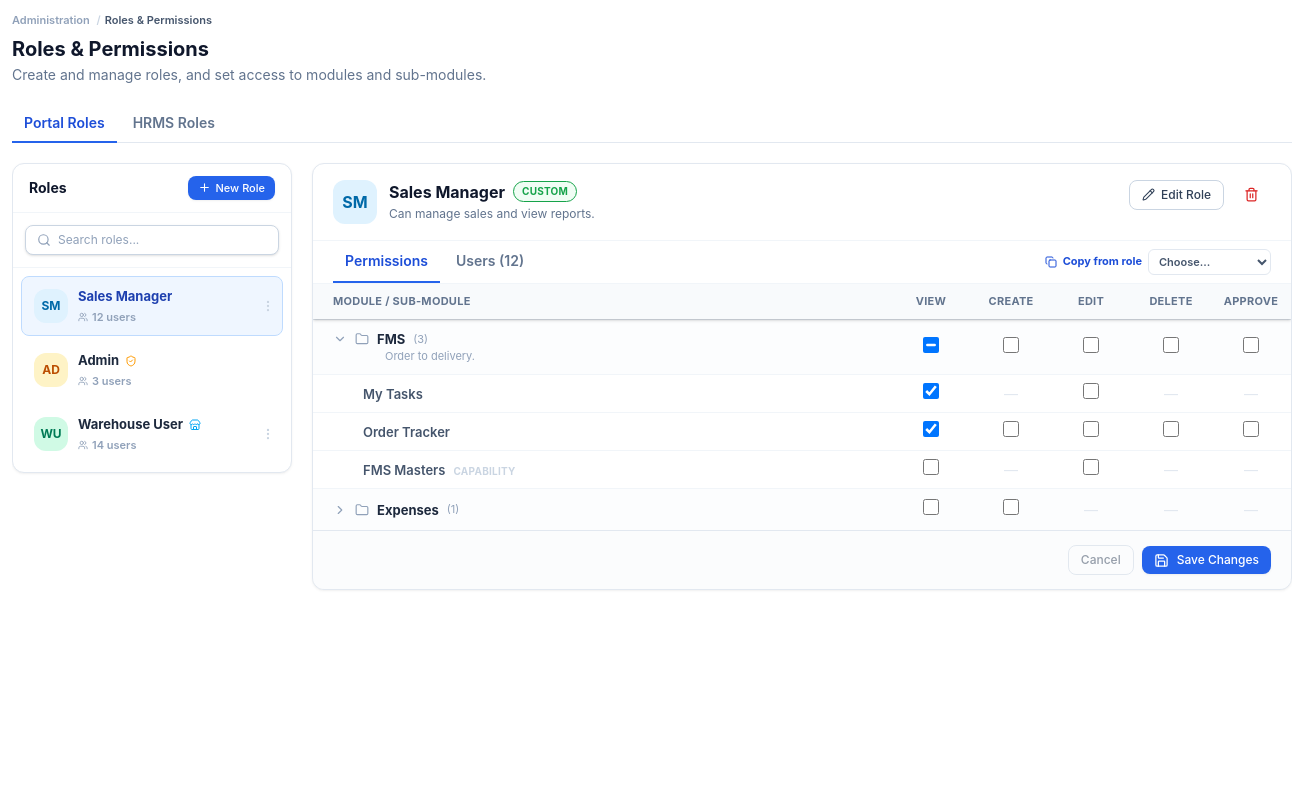
Test case: the role list › keeps the kind badge where the role is the subject
Expected: the button "My Tasks" is shown, [363,385,423,404]
Expected: the text "Custom" is shown once, [513,181,577,202]
Click the button "AD Admin 3 users" at (51, 370), box [21,340,283,400]
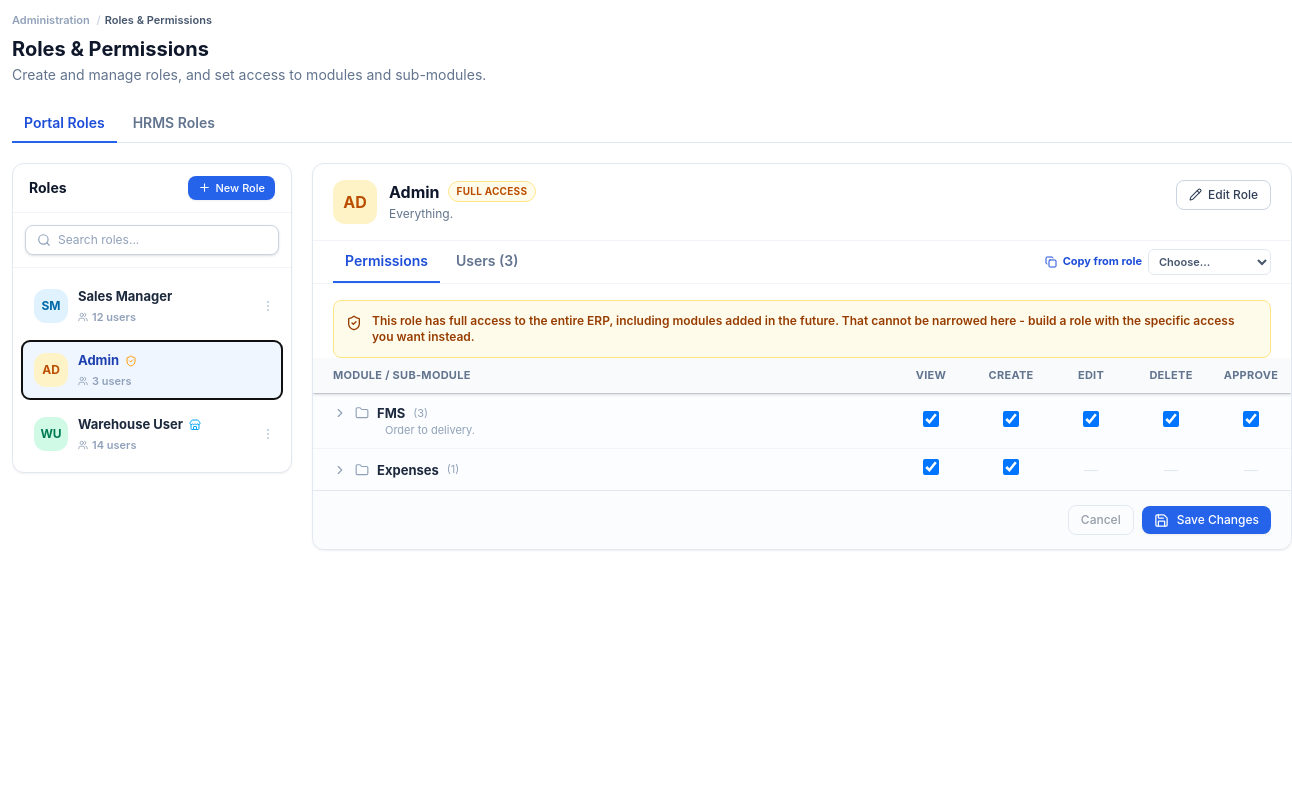
Now the text "Full access" is shown, box [448,181,536,202]
Now the text "Custom" is gone
